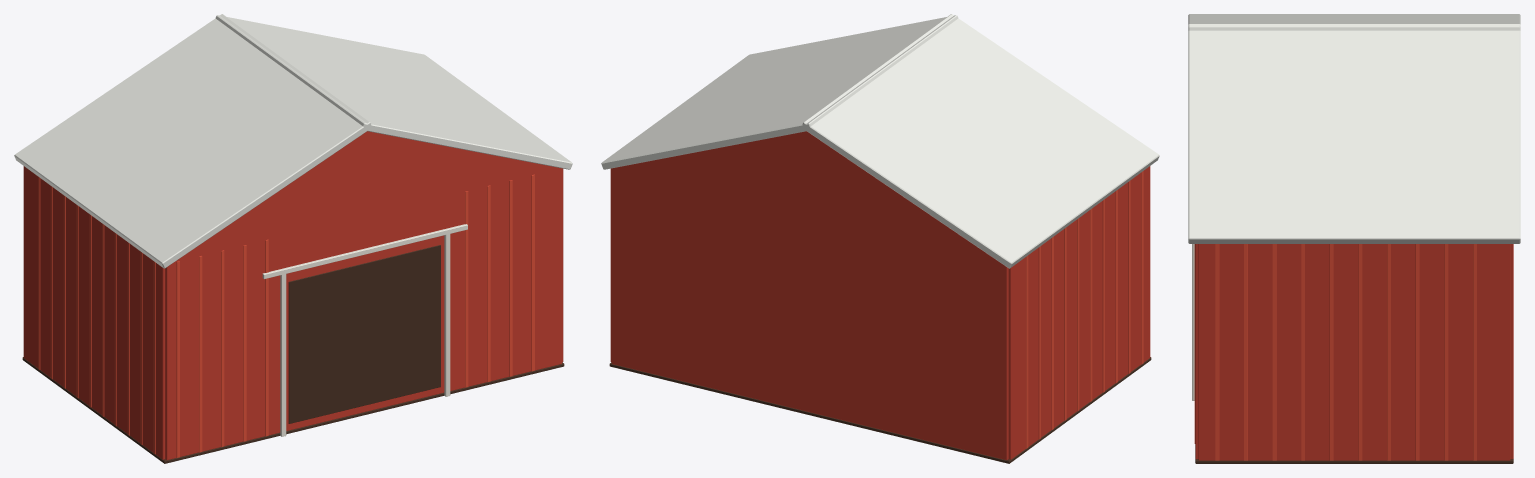
The model's file is PlankBarnTall.glb.
3 renders of one model, left to right at view 1: azimuth 30°, elevation 25°; view 2: azimuth 150°, elevation 25°; view 3: azimuth 270°, elevation 25°, orthographic. The views are drawn at different scales.
Visible parts, largest first — view 1: FTF_Building_RedPlankBarn_Tall_13x8m_Mesh; view 2: FTF_Building_RedPlankBarn_Tall_13x8m_Mesh; view 3: FTF_Building_RedPlankBarn_Tall_13x8m_Mesh.
Boxes of the visible parts, x1,y1,x2,y2 form: FTF_Building_RedPlankBarn_Tall_13x8m_Mesh: (14,14,572,463); FTF_Building_RedPlankBarn_Tall_13x8m_Mesh: (601,14,1159,463); FTF_Building_RedPlankBarn_Tall_13x8m_Mesh: (1188,14,1520,463).
Size of the model in its own units: 13.34 by 9.15 by 8.35.
